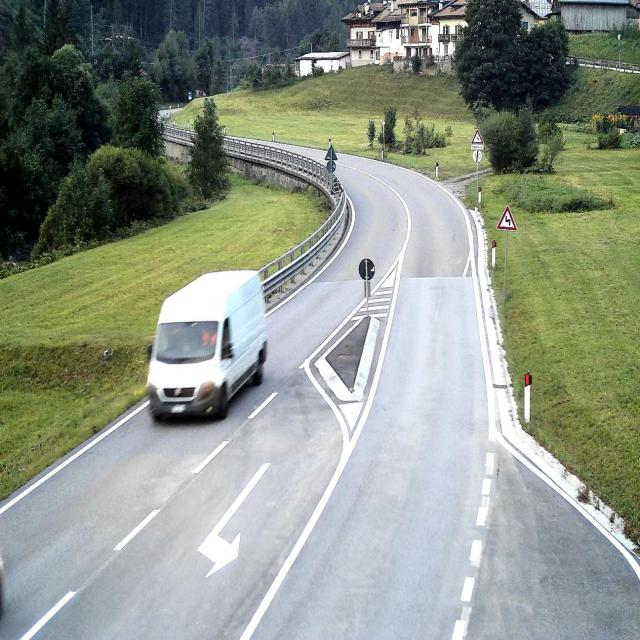car: (146, 268, 268, 421)
